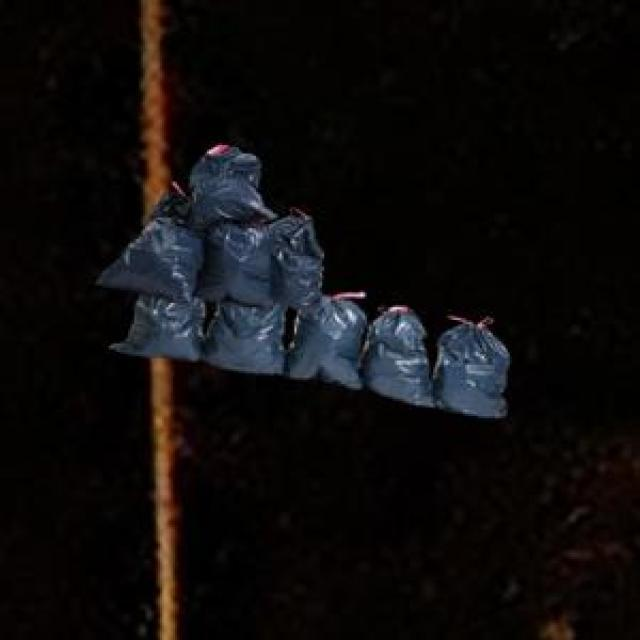Vinyl: (100, 148, 510, 418)
